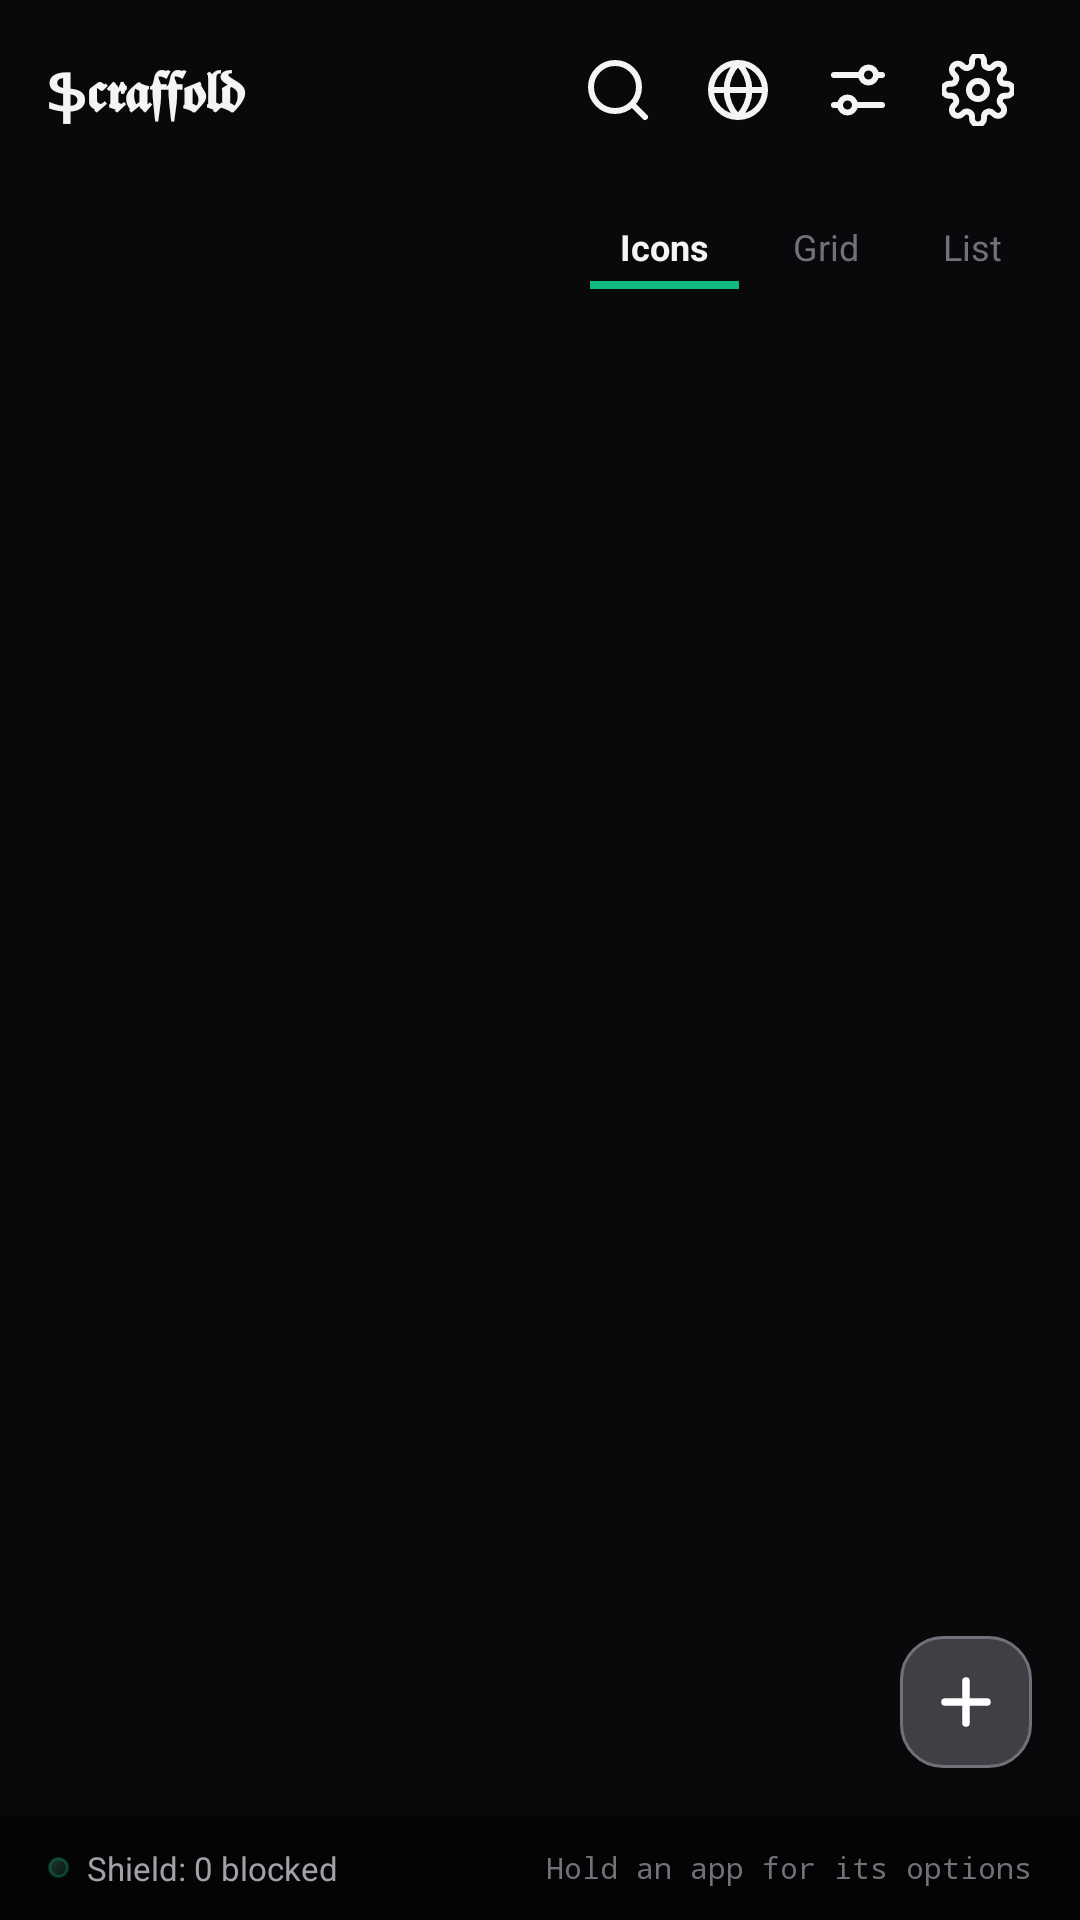

Named icons in this screenshot (1080×1920) and their bounding boxes, (x1, y1, x2, y2):
Add an app: (900, 1636, 1032, 1768)
Browser: (708, 60, 768, 120)
Customize: (831, 64, 885, 116)
Search: (588, 60, 648, 120)
Settings: (942, 54, 1014, 126)
